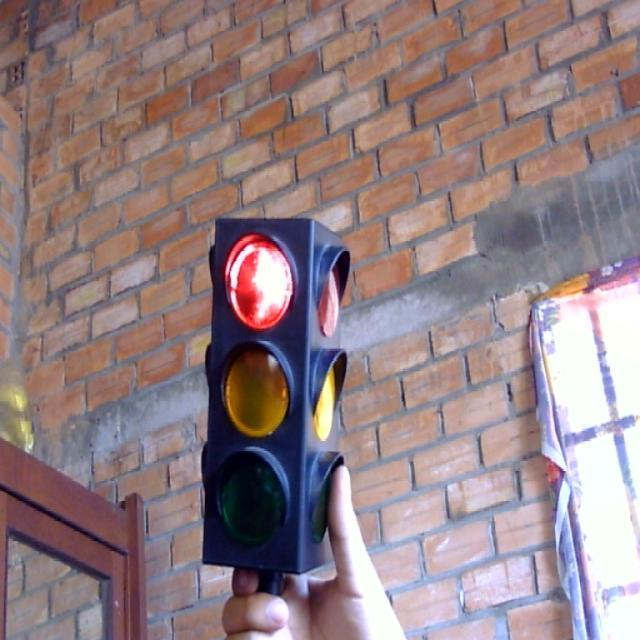red_light: (190, 210, 353, 585)
